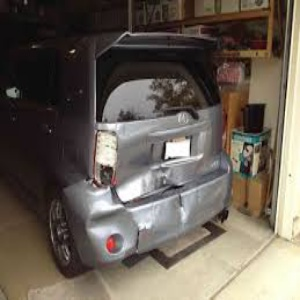bumper: (133, 180, 207, 255)
